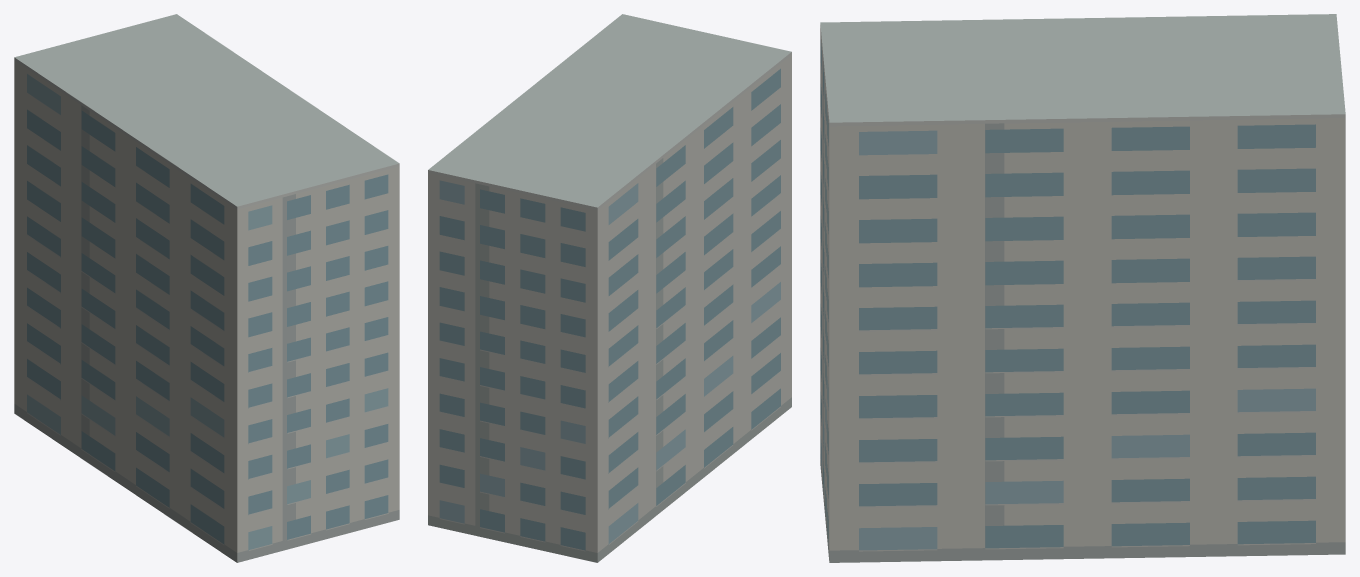
The model's file is residential-eea1a80c-0901-4c4a-9c05-72fcbe8fd4d1.glb.
3 views of the same model, side by side, from view 1: azimuth 30°, elevation 25°; view 2: azimuth 150°, elevation 25°; view 3: azimuth 270°, elevation 25° (orthographic). The views are drawn at different scales.
Parts seen in each view (by area): view 1: residential-eea1a80c-0901-4c4a-9c05-72fcbe8fd4d1.tmp; view 2: residential-eea1a80c-0901-4c4a-9c05-72fcbe8fd4d1.tmp; view 3: residential-eea1a80c-0901-4c4a-9c05-72fcbe8fd4d1.tmp.
Boxes of the visible parts, box(x1,y1,x2,y2) form: residential-eea1a80c-0901-4c4a-9c05-72fcbe8fd4d1.tmp: box(14, 14, 399, 562); residential-eea1a80c-0901-4c4a-9c05-72fcbe8fd4d1.tmp: box(428, 14, 791, 562); residential-eea1a80c-0901-4c4a-9c05-72fcbe8fd4d1.tmp: box(820, 14, 1345, 562).
Bounding box in the file's own units: 15.89 × 30 × 32.46.
